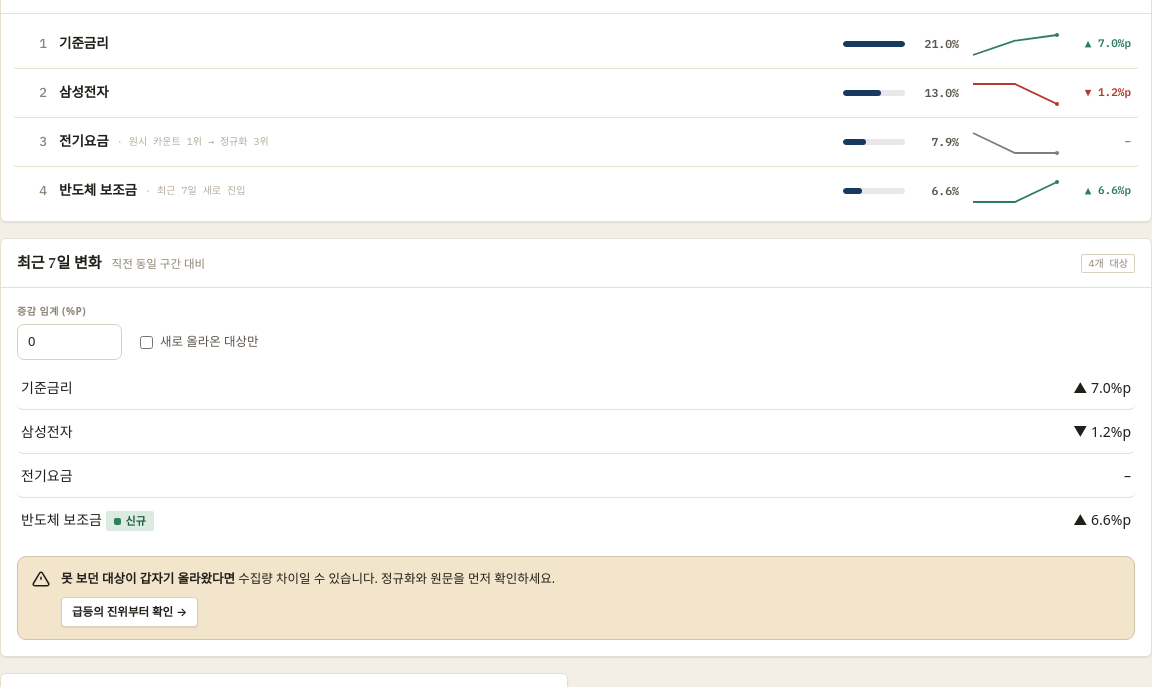
Scenario: Dashboard — 기간 변화 · 고른 대상 › narrows the list by the threshold and by 새로 올라온 대상만 without re-querying serving
(page scrolled)
Replace the text in the number field labelled "증감 임계 (%p)" with "2" at [70, 342], box [17,324,122,360]
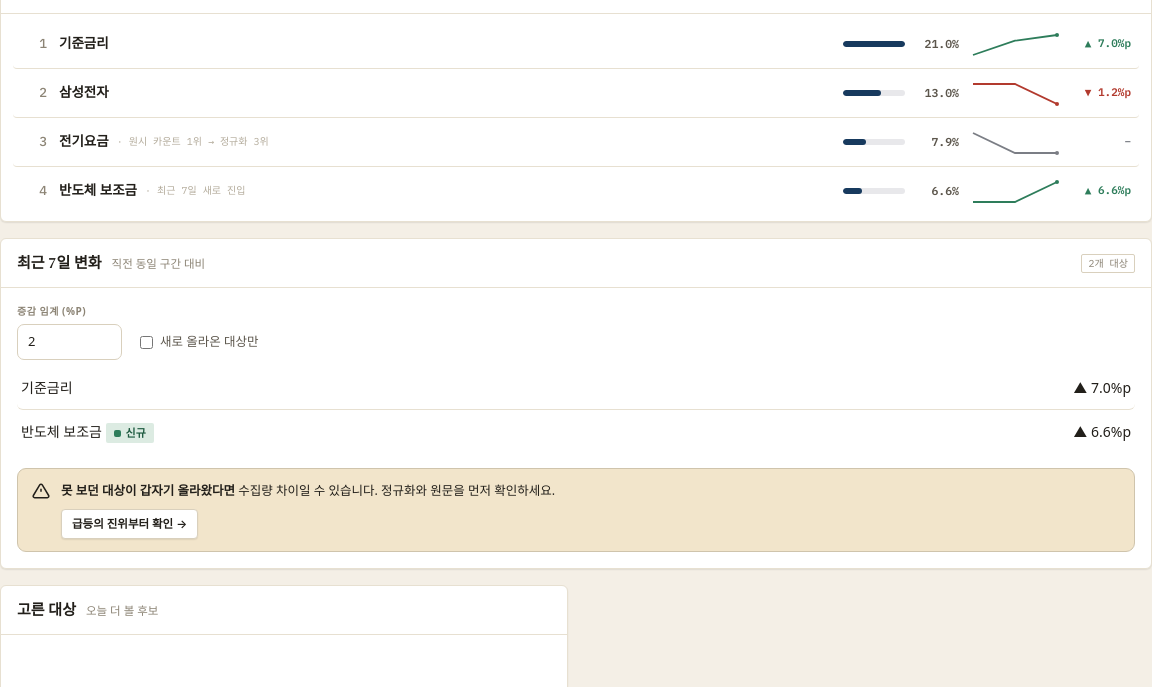
Now the text with class "dash-tag" reads "2개 대상", box [1081,254,1135,273]
Click the checkbox labelled "새로 올라온 대상만" at [146, 342], box [140,336,153,349]
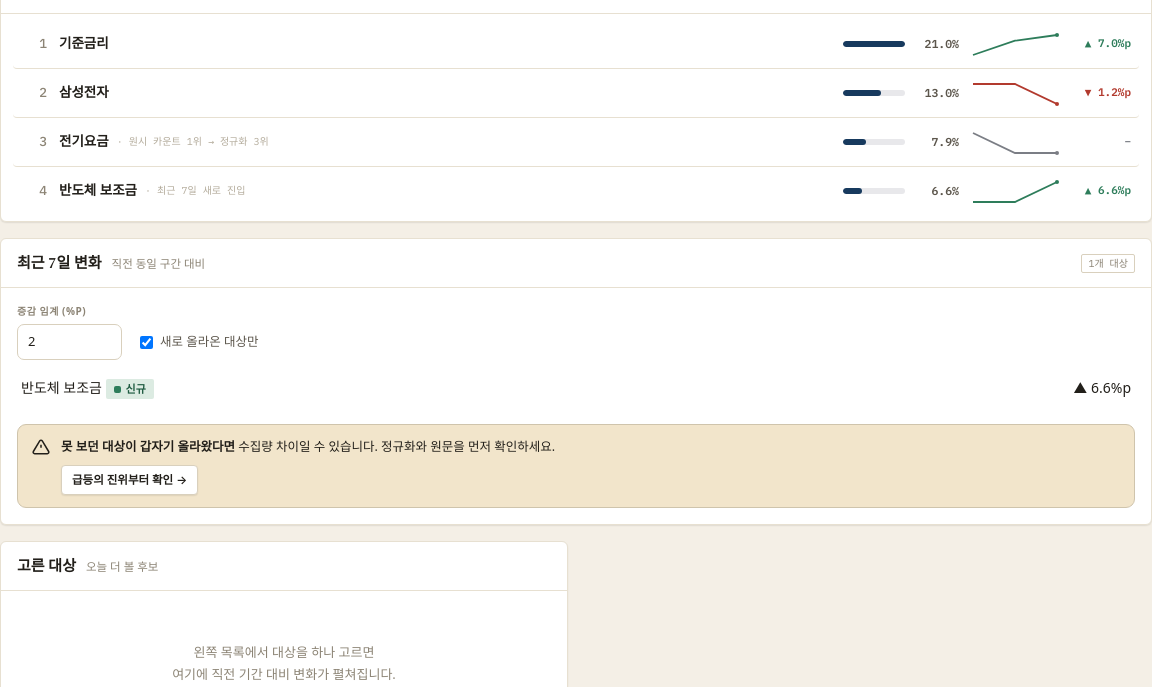
Replace the text in the number field labelled "증감 임계 (%p)" with "9" at [70, 342], box [17,324,122,360]
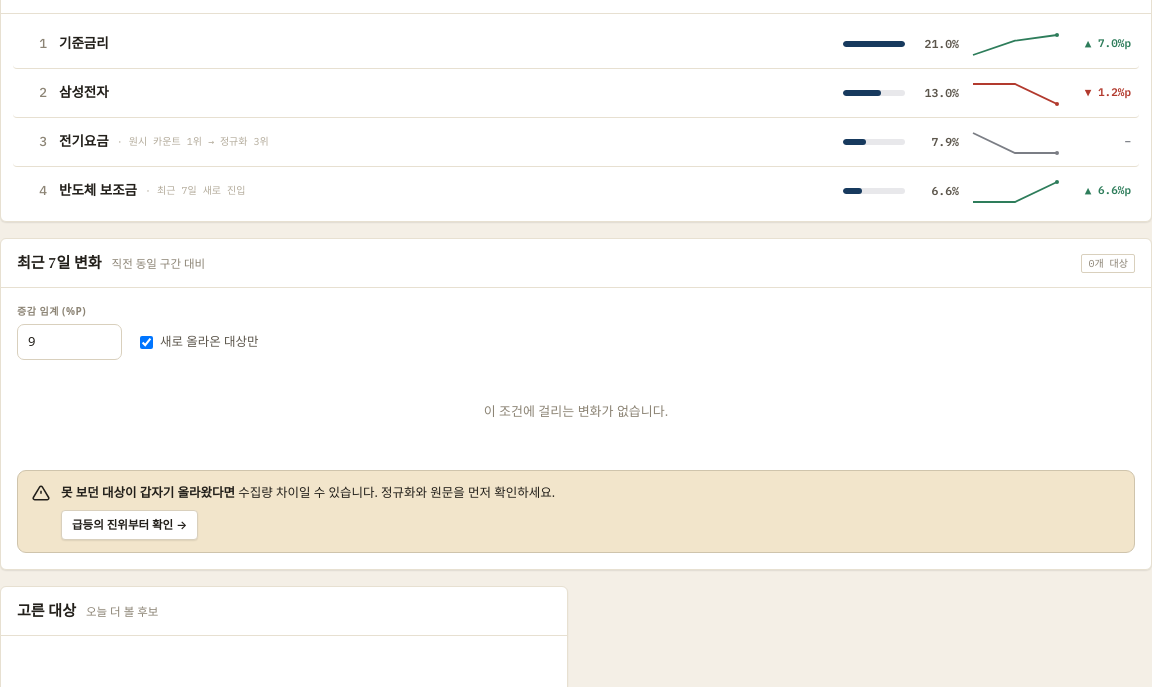
Expected: the number of elements with class "rankrow" is 4, [13,20,1139,69]; [13,69,1139,118]; [13,118,1139,167]; [39,178,1131,204]
Now the text with class "dash-brief-empty" reads "이 조건에 걸리는 변화가 없습니다.", box [484,402,668,420]
